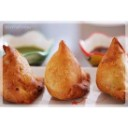samosa: (45, 39, 91, 97), (2, 44, 43, 104), (96, 36, 128, 98)
